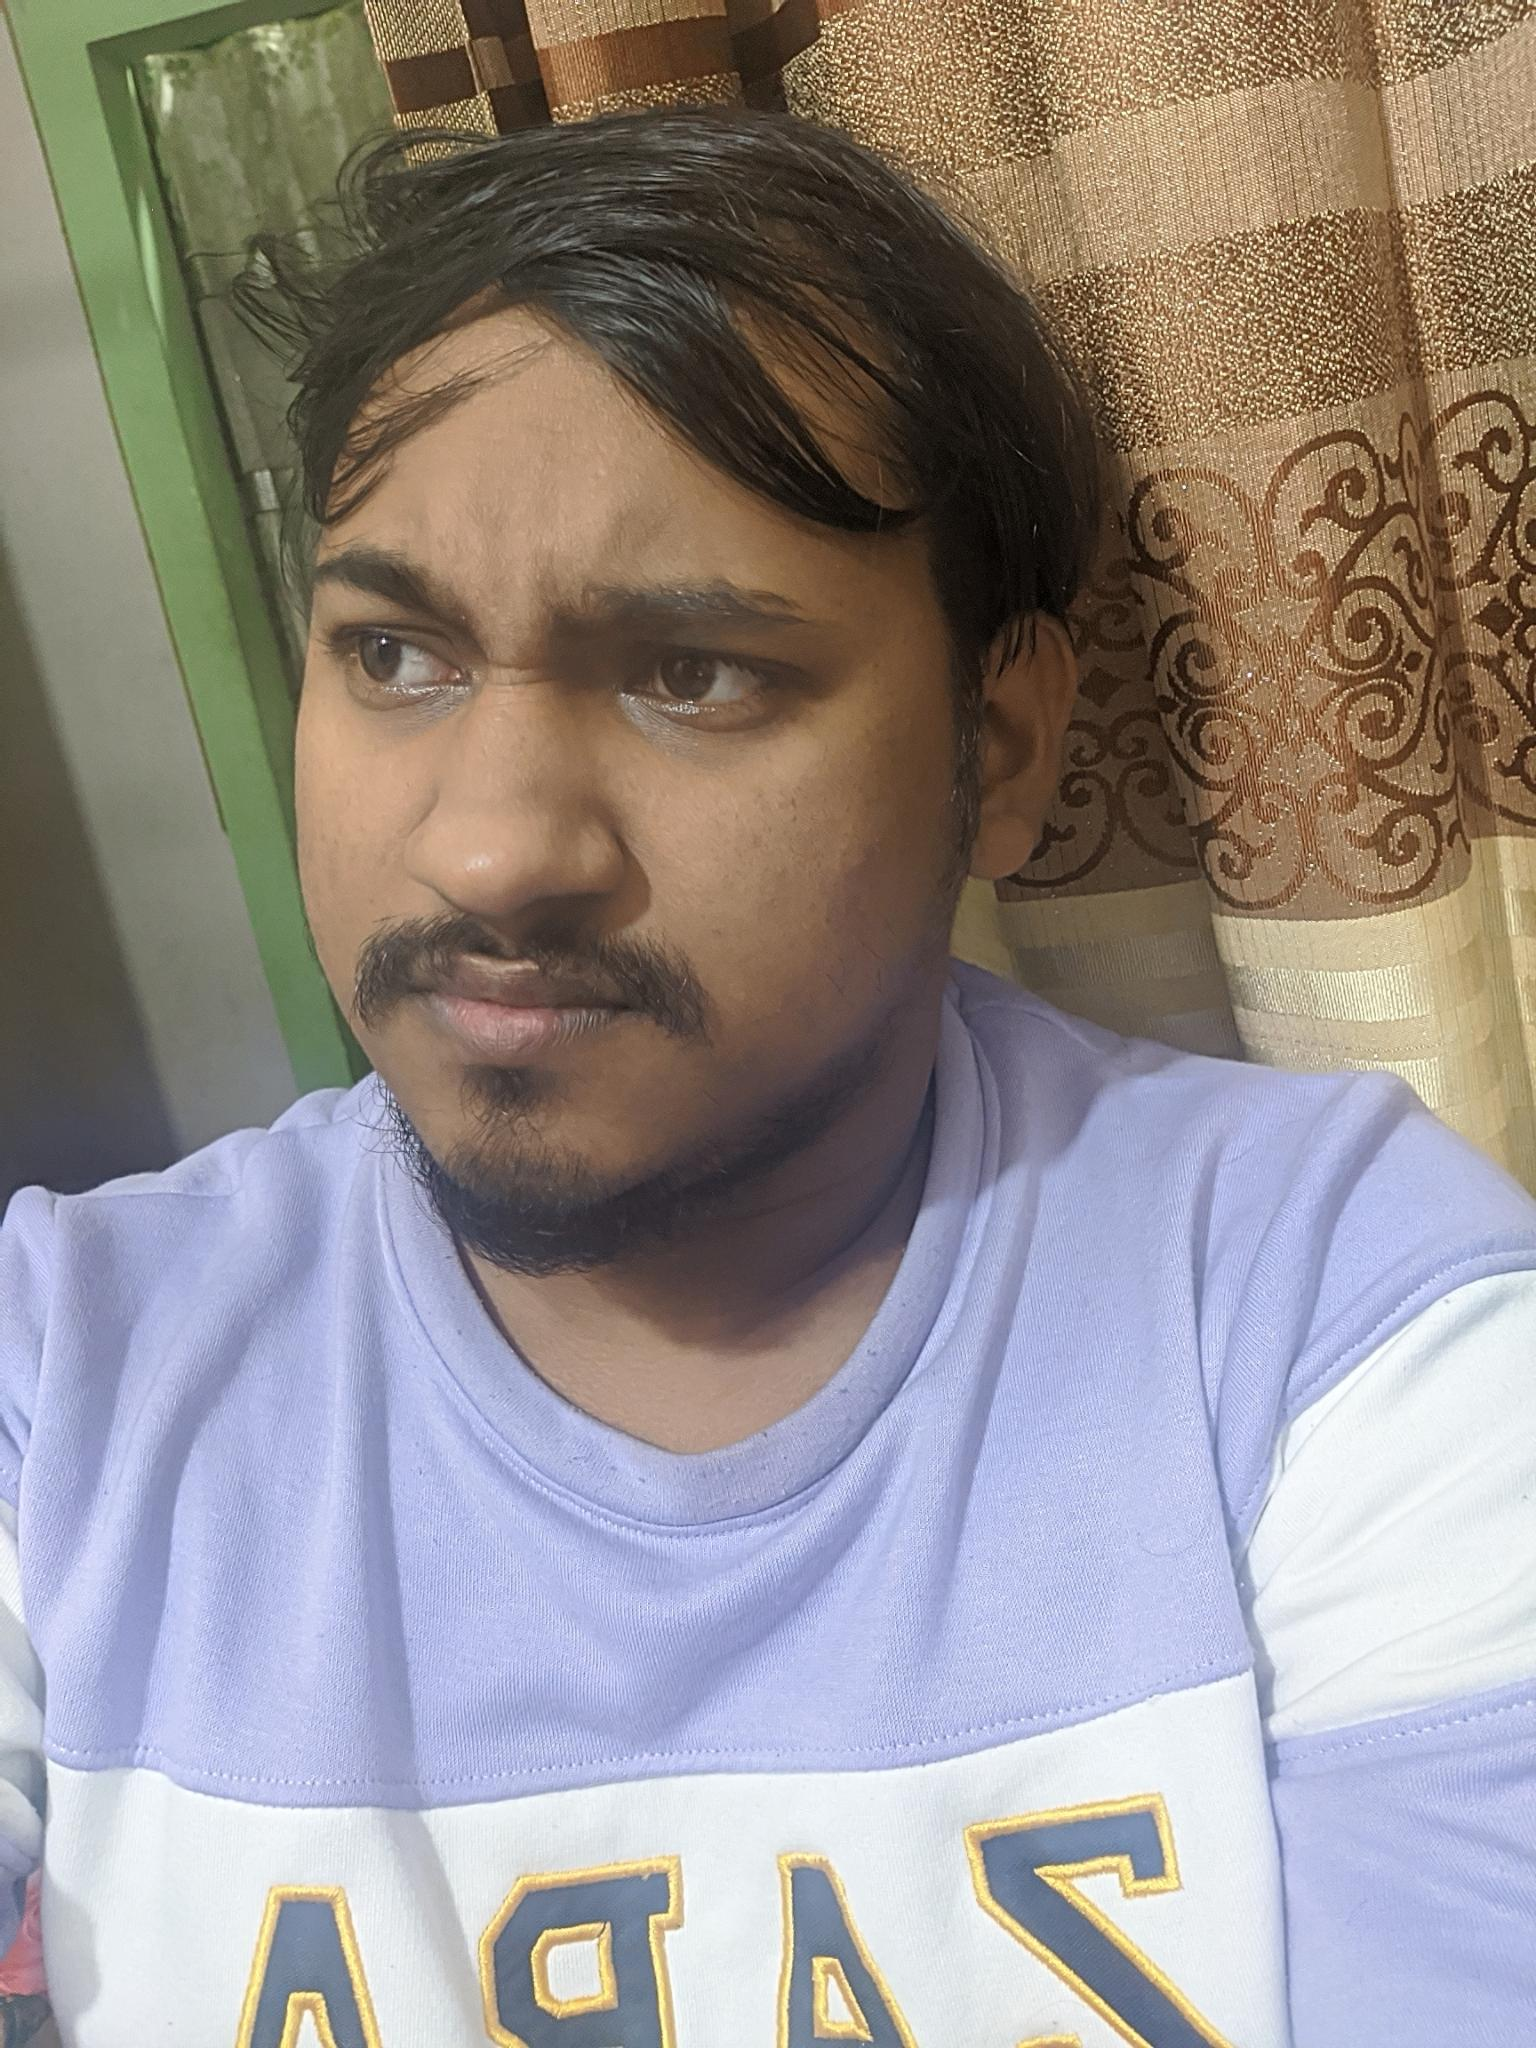Angry: (240, 481, 945, 1214)
